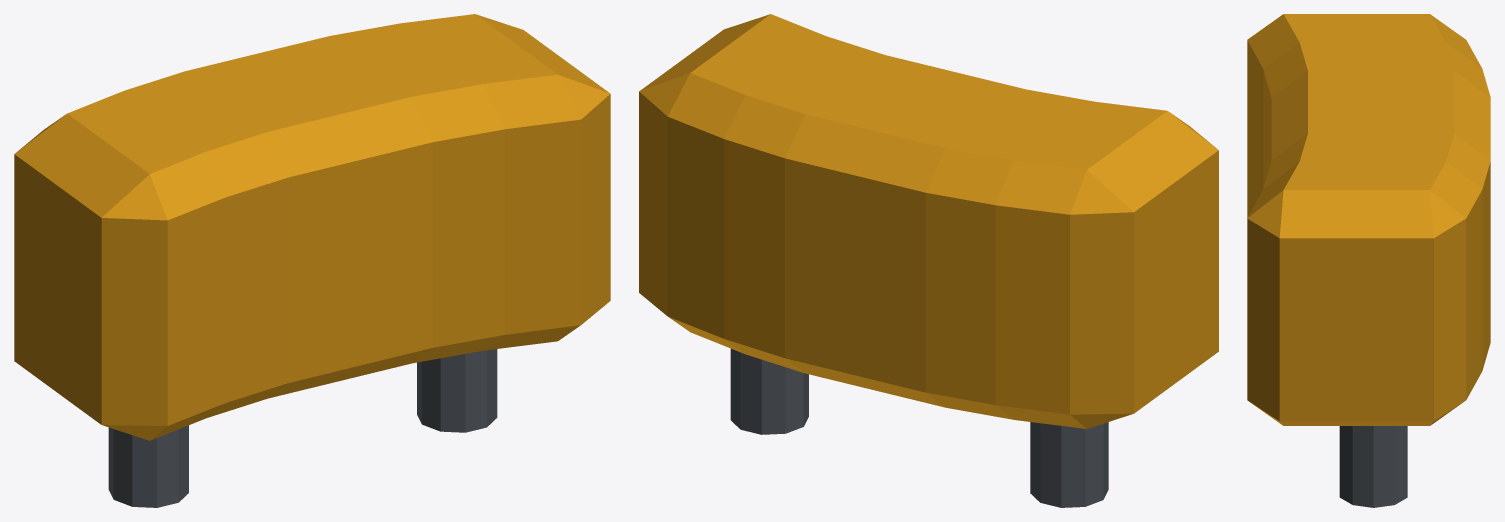
The model's file is Personal_Vehicle_02_Head_Rest_Yellow.fbx.
3 views of the same model, side by side, from view 1: azimuth 30°, elevation 25°; view 2: azimuth 150°, elevation 25°; view 3: azimuth 270°, elevation 25° (orthographic). The views are drawn at different scales.
Parts seen in each view (by area): view 1: Personal_Vehicle_02_Head_Rest_Yellow; view 2: Personal_Vehicle_02_Head_Rest_Yellow; view 3: Personal_Vehicle_02_Head_Rest_Yellow.
Boxes of the visible parts, x1,y1,x2,y2 form: Personal_Vehicle_02_Head_Rest_Yellow: (14,14,610,507); Personal_Vehicle_02_Head_Rest_Yellow: (639,14,1218,507); Personal_Vehicle_02_Head_Rest_Yellow: (1247,14,1490,507).
Size of the model in its own units: 28.13 by 19.35 by 13.18.
Materials: 1 (1 with a texture image).
